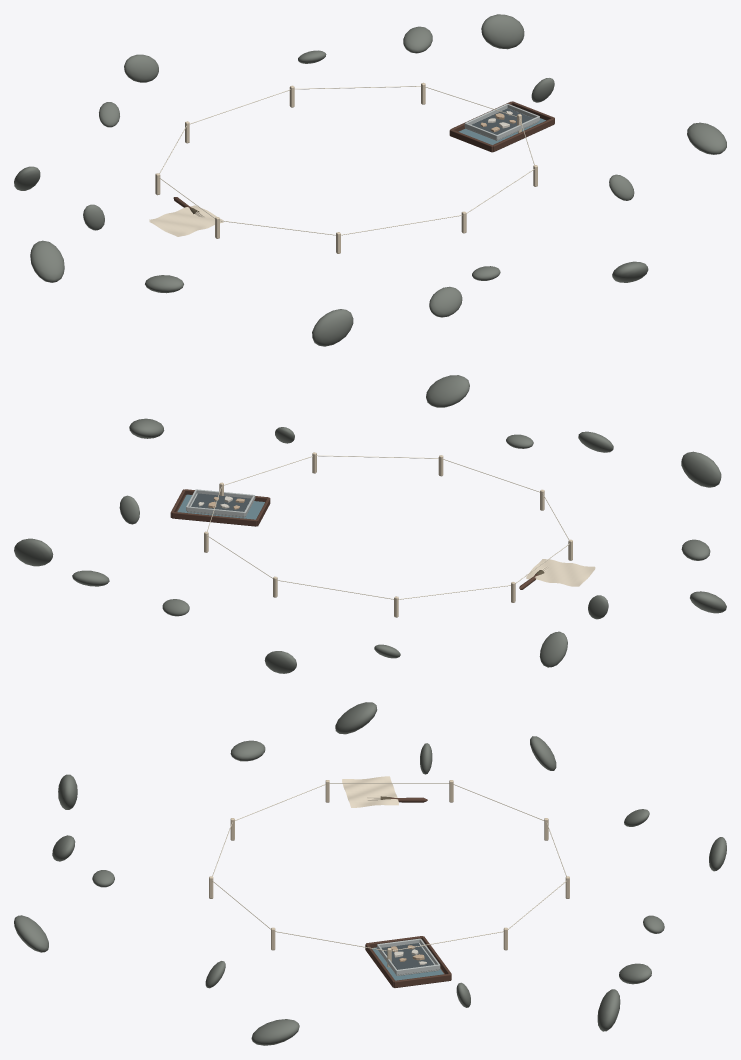
File: excavation-kit-v2.glb
3 views of the same model, one above another, from view 1: azimuth 30°, elevation 25°; view 2: azimuth 150°, elevation 25°; view 3: azimuth 270°, elevation 25° (orthographic). The views are drawn at different scales.
Parts seen in each view (by area): view 1: Rounded field stone (×9), Soft folded cloth, Dark felt backing; view 2: Rounded field stone (×9), Soft folded cloth, Tray raised side, Dark felt backing; view 3: Rounded field stone (×8), Soft folded cloth, Dark felt backing.
Part boxes in pixels (x1,y1,x2,y2): Rounded field stone (×9): [30, 14, 726, 346]; Soft folded cloth: [149, 205, 223, 234]; Dark felt backing: [471, 108, 532, 134]; Rounded field stone (×9): [14, 375, 726, 673]; Soft folded cloth: [526, 559, 595, 584]; Tray raised side: [172, 511, 256, 526]; Dark felt backing: [191, 493, 250, 511]; Rounded field stone (×8): [14, 702, 651, 1045]; Soft folded cloth: [342, 776, 398, 805]; Dark felt backing: [381, 943, 434, 969].
Size of the model in its own units: 8.18 by 0.3989 by 7.48.
